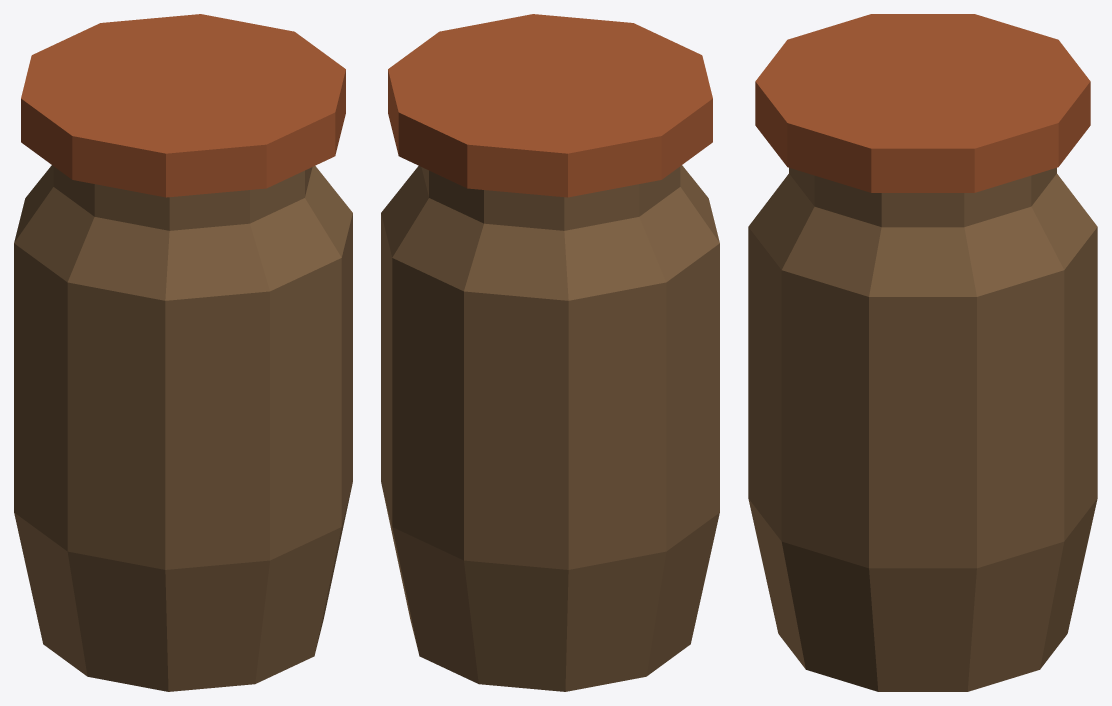
The model's file is Peanut Sauce.fbx.
3 renders of one model, left to right at view 1: azimuth 30°, elevation 25°; view 2: azimuth 150°, elevation 25°; view 3: azimuth 270°, elevation 25°, orthographic.
Parts seen in each view (by area): view 1: Peanut Sauce; view 2: Peanut Sauce; view 3: Peanut Sauce.
Boxes of the visible parts, x1,y1,x2,y2 form: Peanut Sauce: [14, 14, 352, 691]; Peanut Sauce: [381, 14, 719, 691]; Peanut Sauce: [748, 14, 1097, 691].
Bounding box in the file's own units: 39.35 × 72.2 × 41.38.
